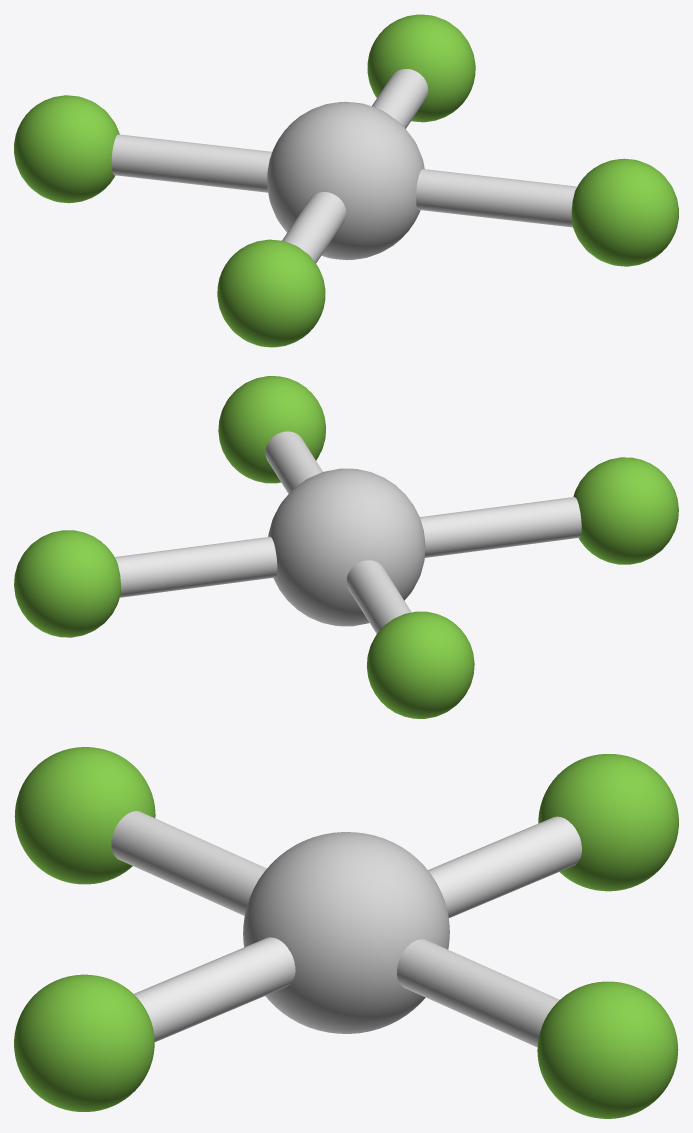
The model's file is XeF4.fbx.
3 renders of one model, top to bottom at view 1: azimuth 30°, elevation 25°; view 2: azimuth 150°, elevation 25°; view 3: azimuth 270°, elevation 25°, orthographic. The views are drawn at different scales.
Visible parts, largest first — view 1: XeF4; view 2: XeF4; view 3: XeF4.
Part boxes in pixels (x1,y1,x2,y2): XeF4: (14,14,678,347); XeF4: (14,376,678,718); XeF4: (14,747,678,1118).
Size of the model in its own units: 344 by 105 by 346.
